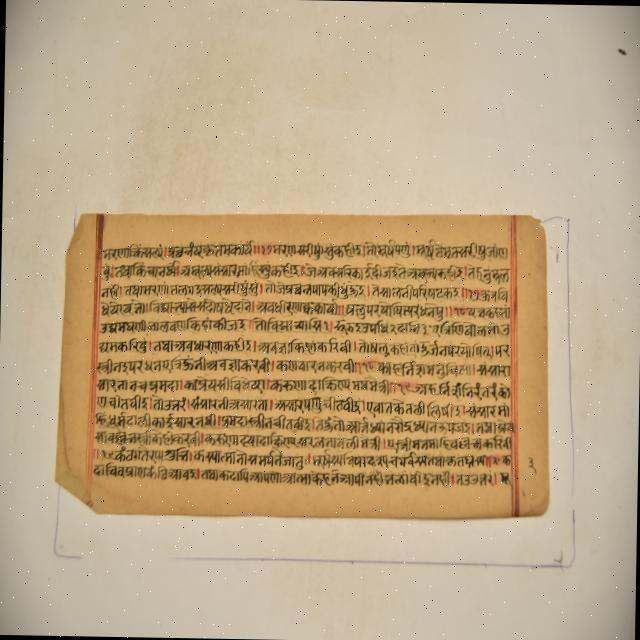text_paragraph: (63, 214, 544, 510)
